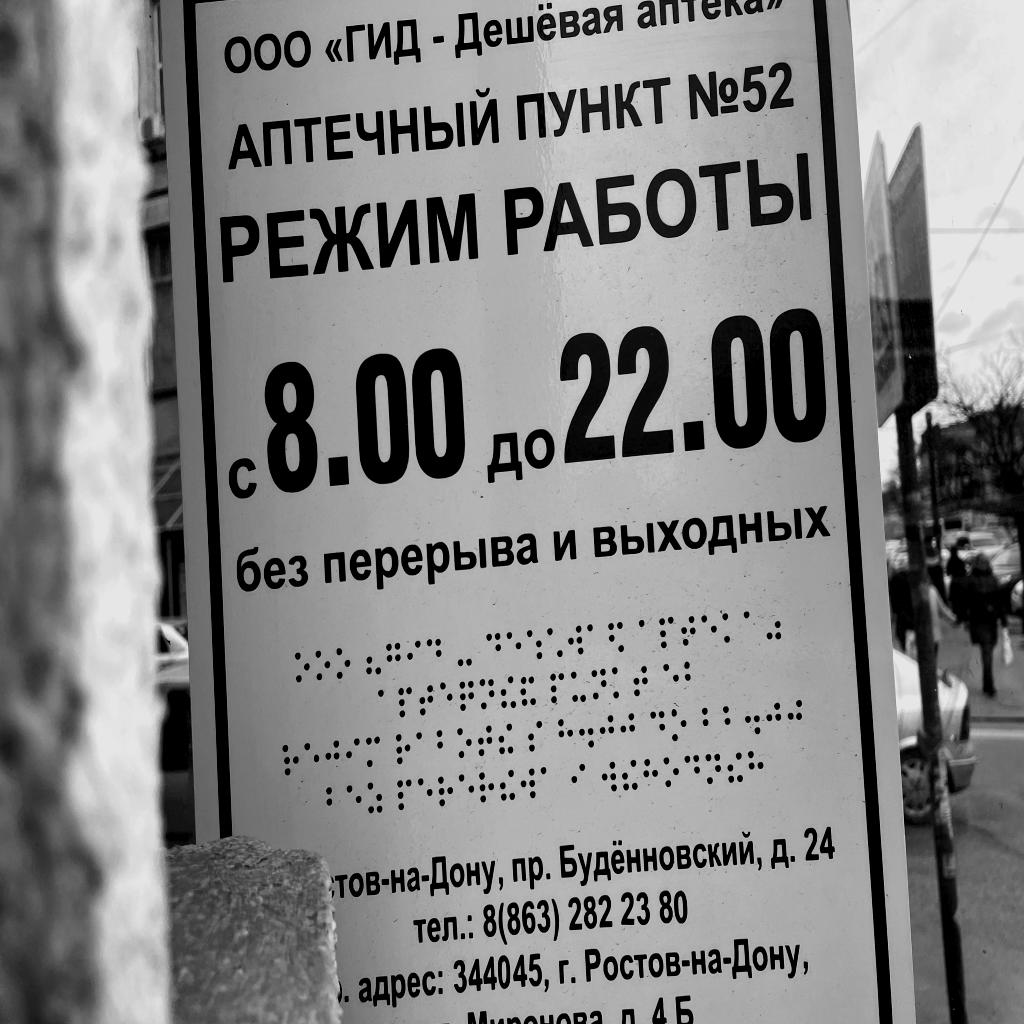_n: (479, 678, 495, 710), (591, 668, 607, 700), (705, 753, 721, 785)
_y: (571, 670, 587, 703)
a: (638, 618, 654, 651), (416, 732, 432, 764), (743, 610, 759, 641), (377, 688, 392, 720), (587, 623, 602, 654), (541, 766, 556, 797)
b: (325, 786, 342, 819), (436, 729, 452, 761)
ch: (459, 679, 475, 712)
d: (485, 631, 502, 664), (426, 637, 442, 670), (650, 710, 666, 742), (684, 754, 700, 786)
defis: (457, 637, 473, 668)
e: (506, 631, 523, 663), (304, 742, 320, 775), (346, 784, 362, 817), (459, 773, 475, 805), (701, 614, 717, 645), (439, 681, 454, 714), (418, 777, 433, 807)
g: (386, 642, 401, 673)
gh: (325, 740, 339, 772)
i: (571, 763, 586, 797), (407, 639, 422, 671), (346, 738, 360, 770)
iKratkoe: (520, 675, 536, 707)
ii: (621, 759, 639, 791), (501, 675, 517, 709), (498, 723, 514, 756), (728, 751, 744, 784), (500, 769, 516, 801)
k: (611, 666, 627, 699), (722, 612, 738, 644)
kavichki1: (366, 643, 381, 676)
kavichki2: (767, 608, 782, 641)
m: (365, 735, 381, 768)
o: (671, 708, 687, 742), (295, 652, 311, 683), (315, 650, 331, 681), (663, 757, 679, 788), (336, 647, 351, 680), (457, 727, 472, 759)
p: (397, 777, 413, 811), (659, 615, 674, 649), (550, 672, 565, 703), (398, 686, 412, 719)
r: (282, 744, 299, 777), (478, 771, 495, 804), (395, 733, 411, 766), (437, 776, 454, 807)
s: (528, 720, 543, 752)
sh: (527, 629, 543, 660)
t: (633, 666, 649, 698), (419, 684, 434, 717), (478, 724, 493, 757), (681, 615, 695, 647)
tochka: (578, 715, 595, 749), (744, 702, 761, 736)
v: (601, 761, 618, 793), (520, 767, 536, 800), (568, 625, 584, 655)
x: (748, 750, 765, 783), (643, 758, 659, 790)
ya: (608, 621, 625, 653)
yo: (547, 627, 563, 658)
z: (367, 782, 383, 815)
